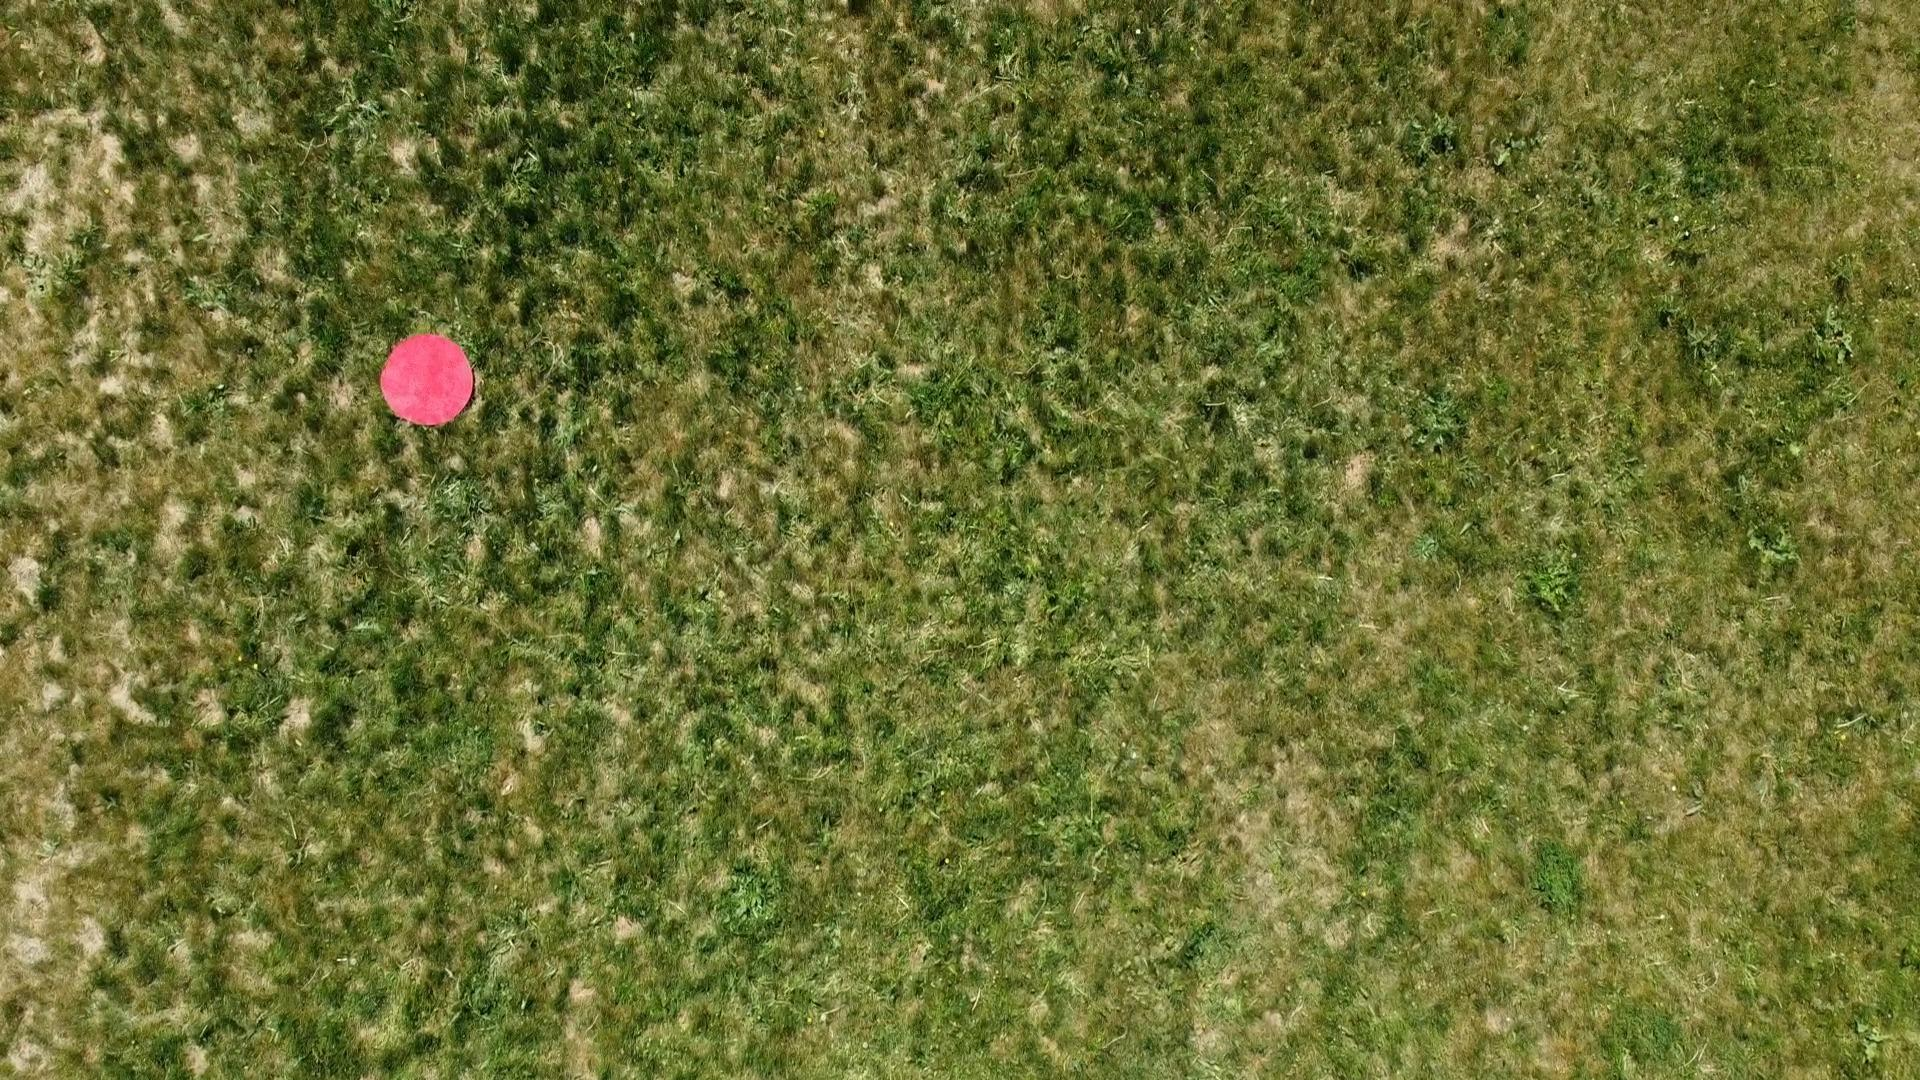Red: (376, 331, 480, 431)
